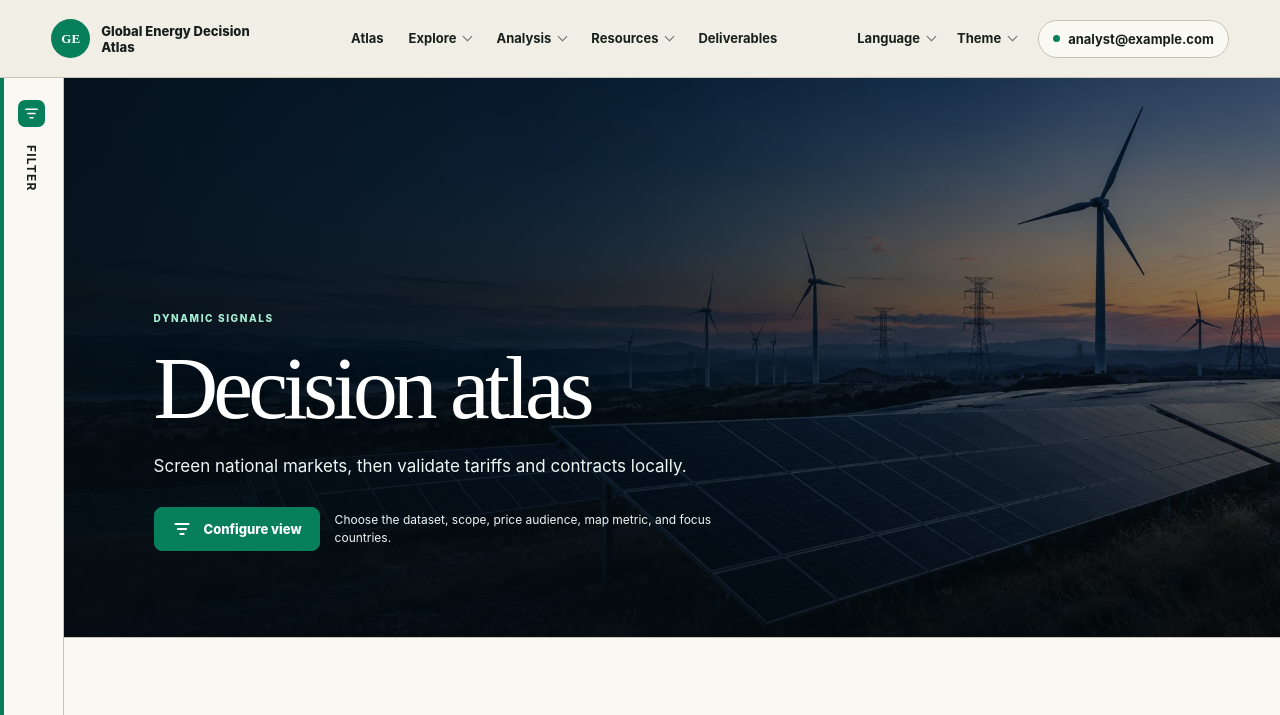
Test case: atlas interactions with protected records supplied by the test harness › opens navigation on hover and closes it when the pointer leaves
Hover over the button "Explore": (440, 38) [399,22,482,55]
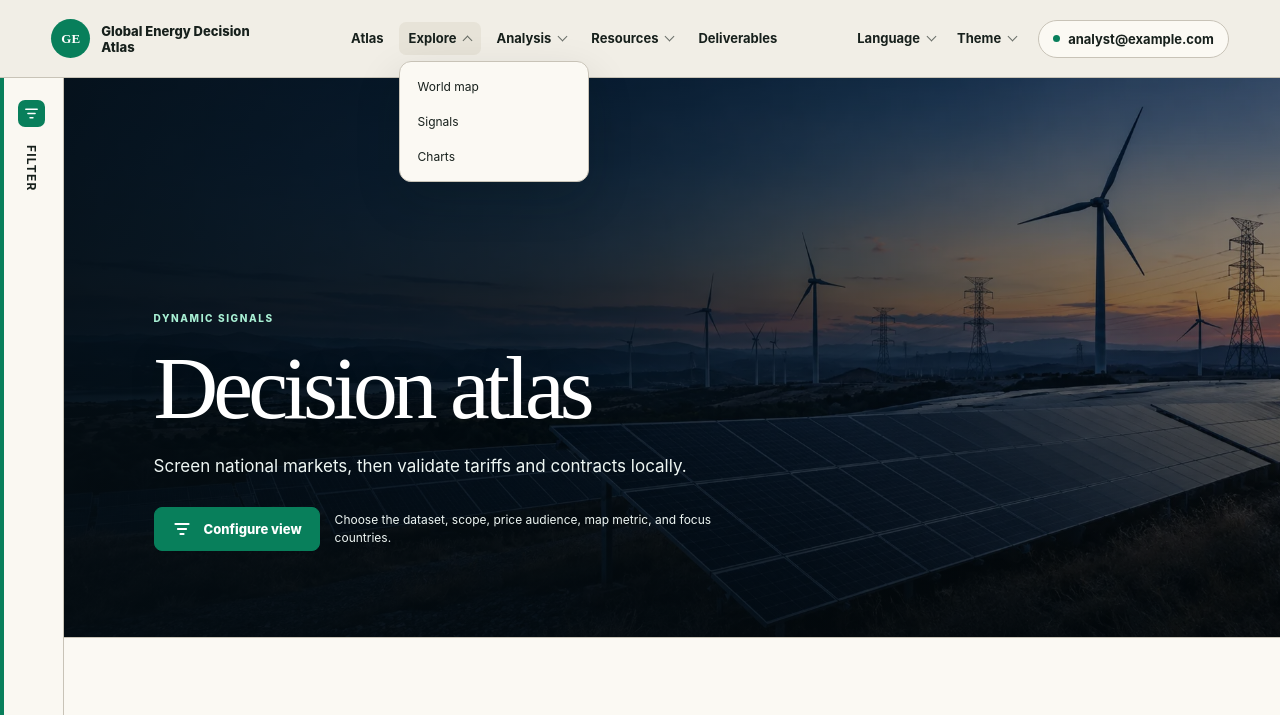
expect the button "Explore" is expanded: met
expect the link "World map" is shown: met, box [418,79,479,94]
Move the pointer off the element "Explore", box [399,22,482,55]
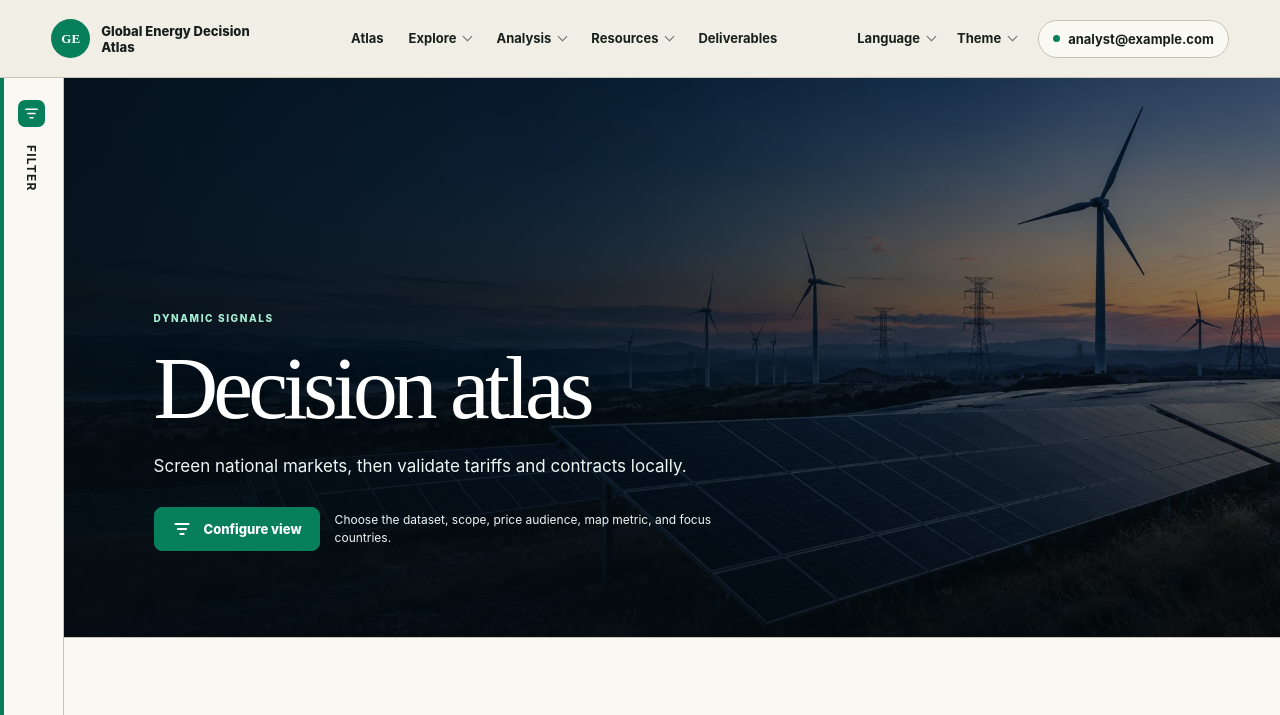
expect the button "Explore" is collapsed: met, box [399,22,482,55]
expect the link "World map" is gone: met
